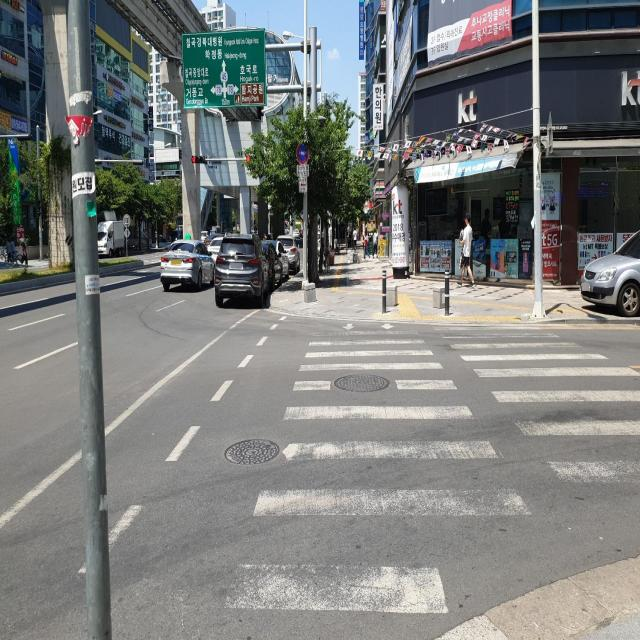횡단보도: (221, 322, 640, 616)
